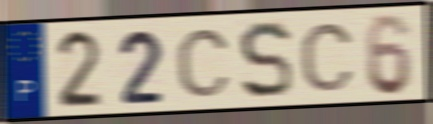2: (113, 24, 170, 110), (53, 26, 105, 112)
6: (362, 11, 415, 99)
C: (297, 21, 357, 94), (174, 26, 233, 100)
S: (236, 18, 295, 102)
